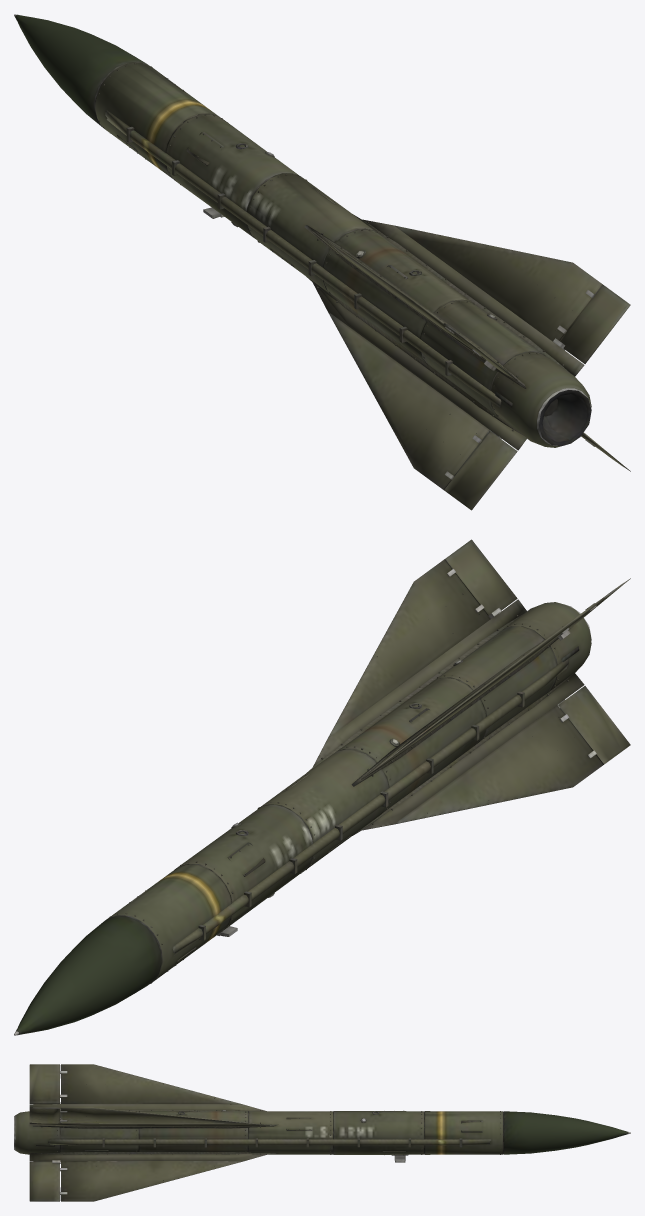
The model's file is msl_hawk_lo.glb.
The picture shows the model from 3 angles, top to bottom: view 1: azimuth 30°, elevation 25°; view 2: azimuth 150°, elevation 25°; view 3: azimuth 270°, elevation 25°; orthographic projection. The views are drawn at different scales.
Parts seen in each view (by area): view 1: body|M8_paint; view 2: body|M8_paint; view 3: body|M8_paint.
Boxes of the visible parts, box(x1,y1,x2,y2) form: body|M8_paint: box(14, 14, 630, 510); body|M8_paint: box(14, 539, 630, 1035); body|M8_paint: box(14, 1064, 630, 1201).
Size of the model in its own units: 0.8554 by 0.8554 by 5.08.
1 material, 1 textured.
